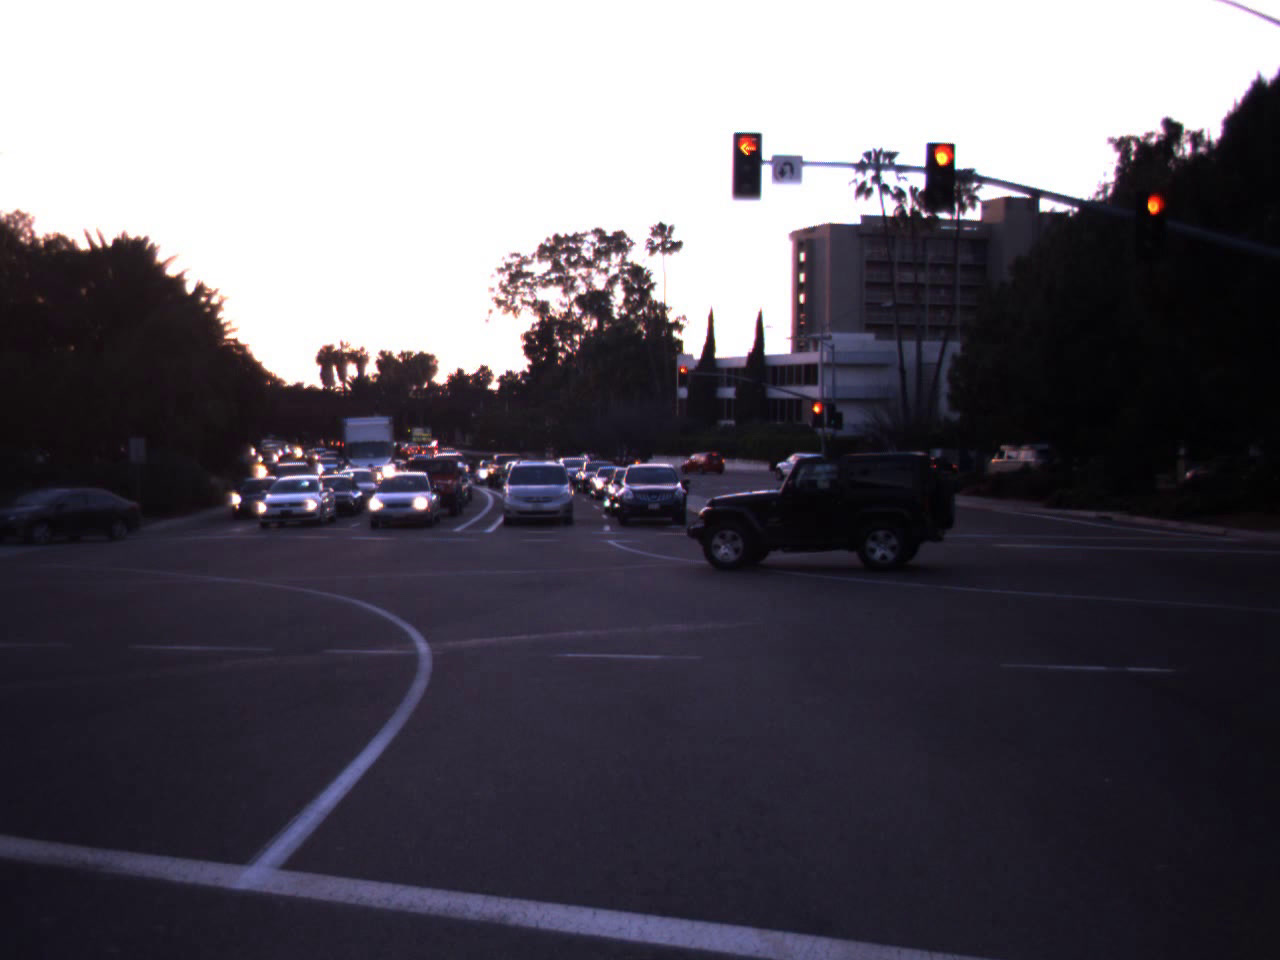stop: (717, 127, 777, 212), (918, 136, 969, 221), (1136, 188, 1172, 264)
